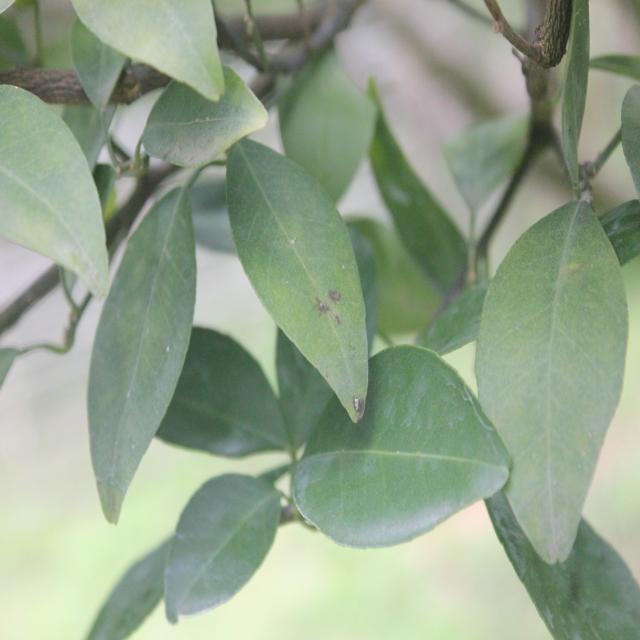canker: (303, 260, 370, 427), (110, 304, 192, 411)
